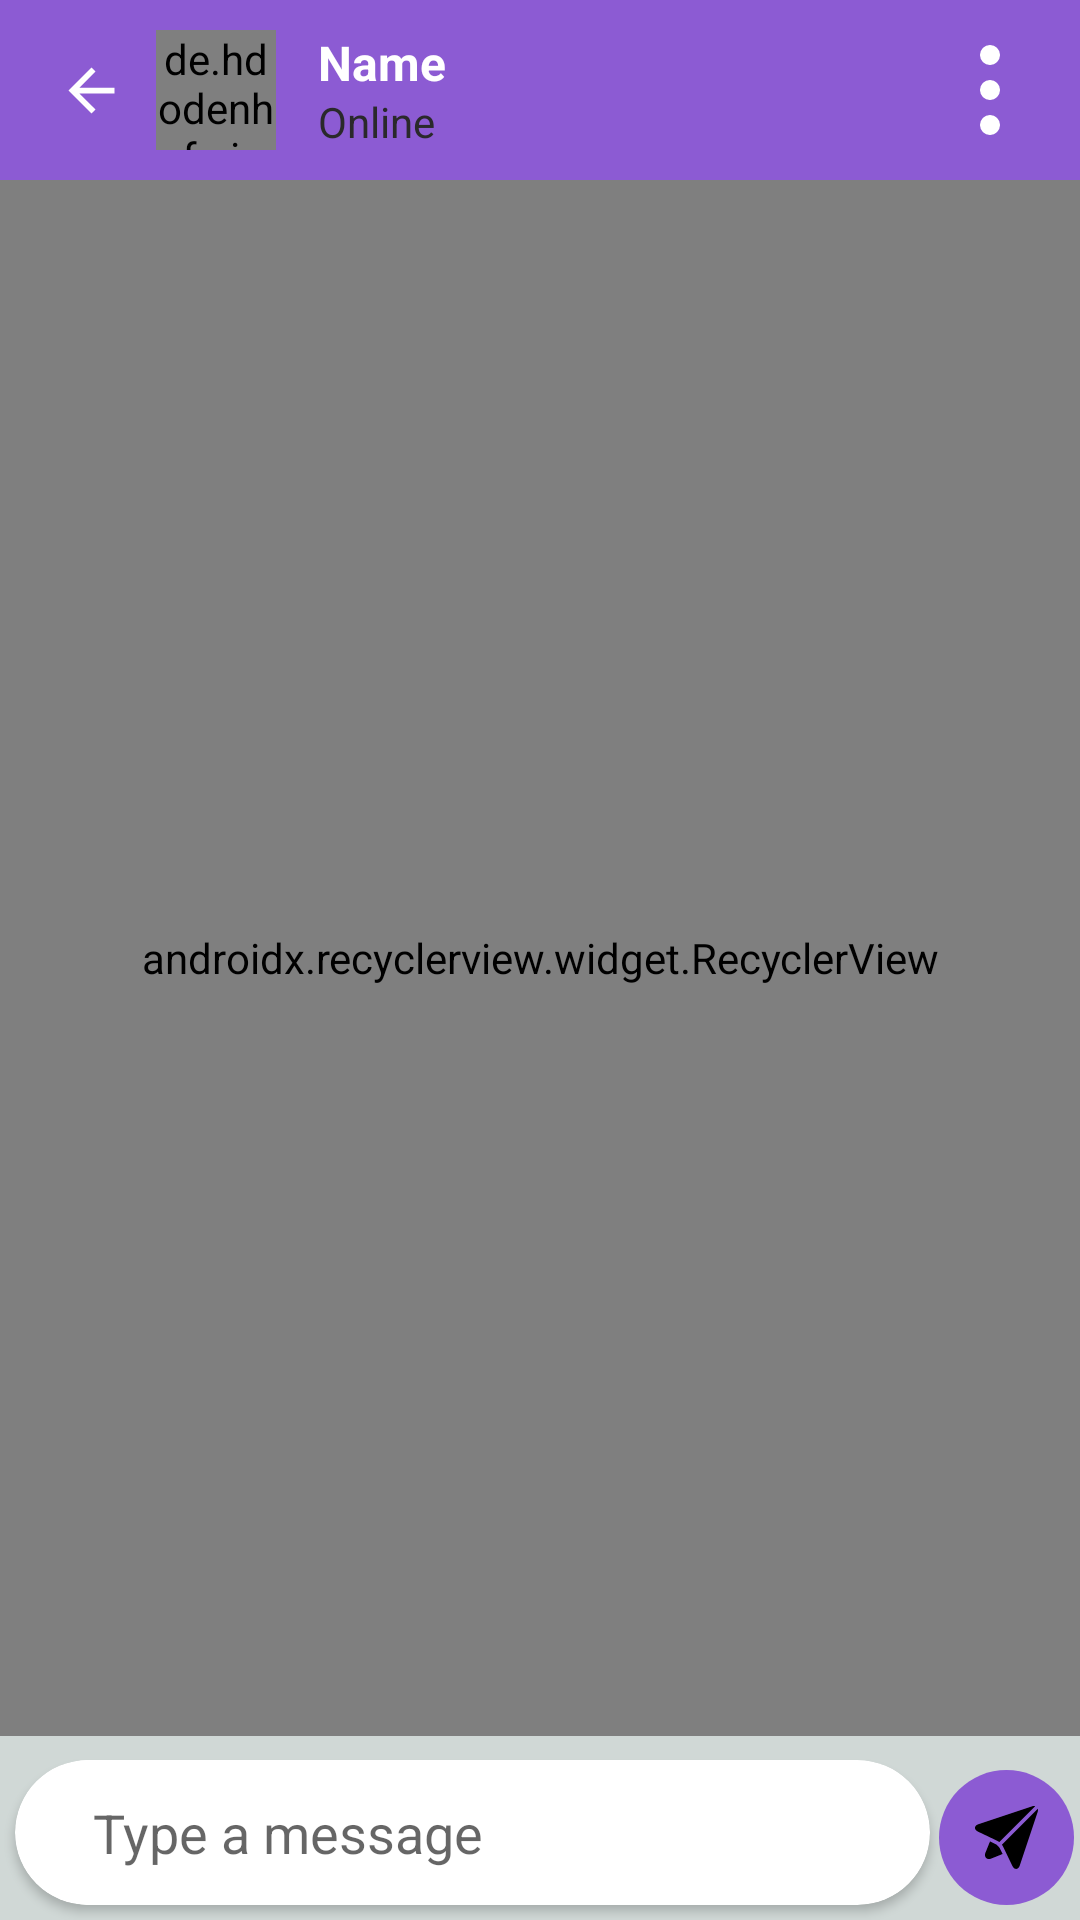

Where icons sit on this 1080 × 1920 app screen, as (x1, y1, x2, y2):
more: (980, 45, 1000, 135)
